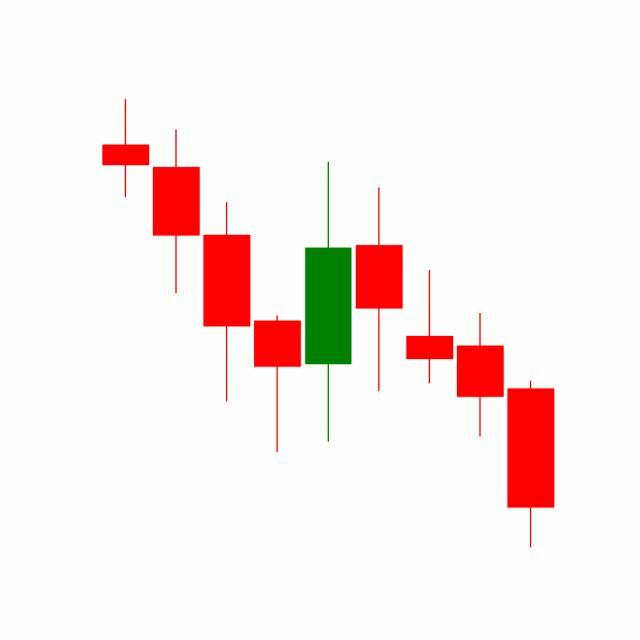Hikkake Pattern: (252, 159, 506, 455)
